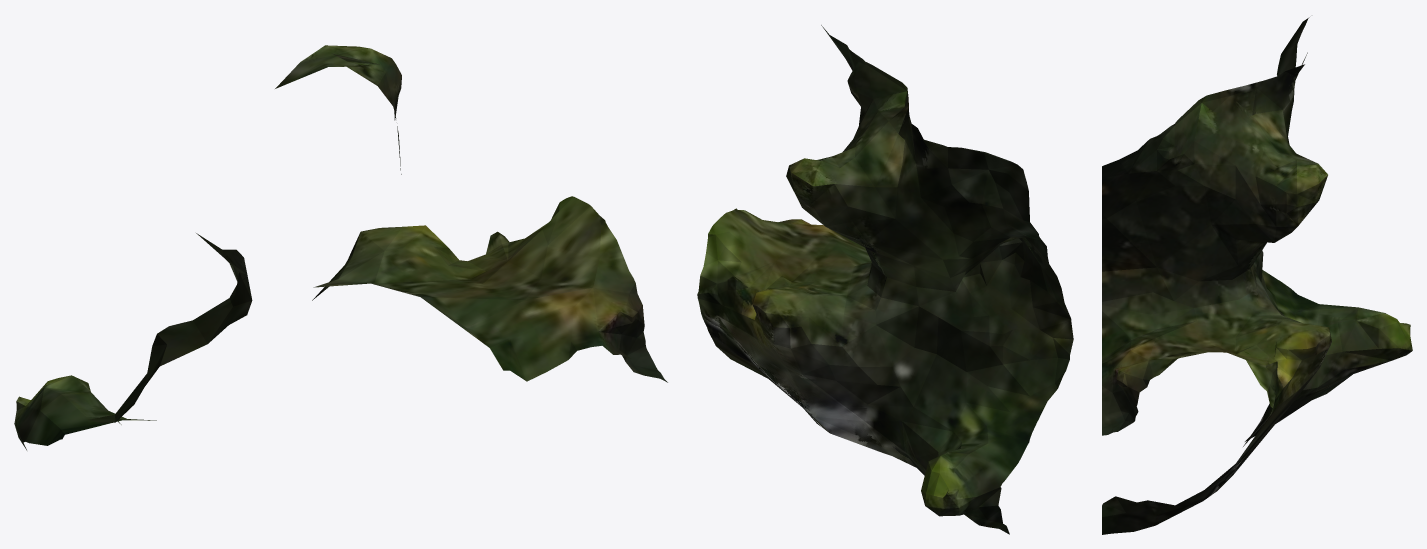
3 views of the same model, side by side, from view 1: azimuth 30°, elevation 25°; view 2: azimuth 150°, elevation 25°; view 3: azimuth 270°, elevation 25° (orthographic). The views are drawn at different scales.
Size of the model in its own units: 0.8373 by 0.8374 by 0.6542.
Materials: 4 (4 with a texture image).
